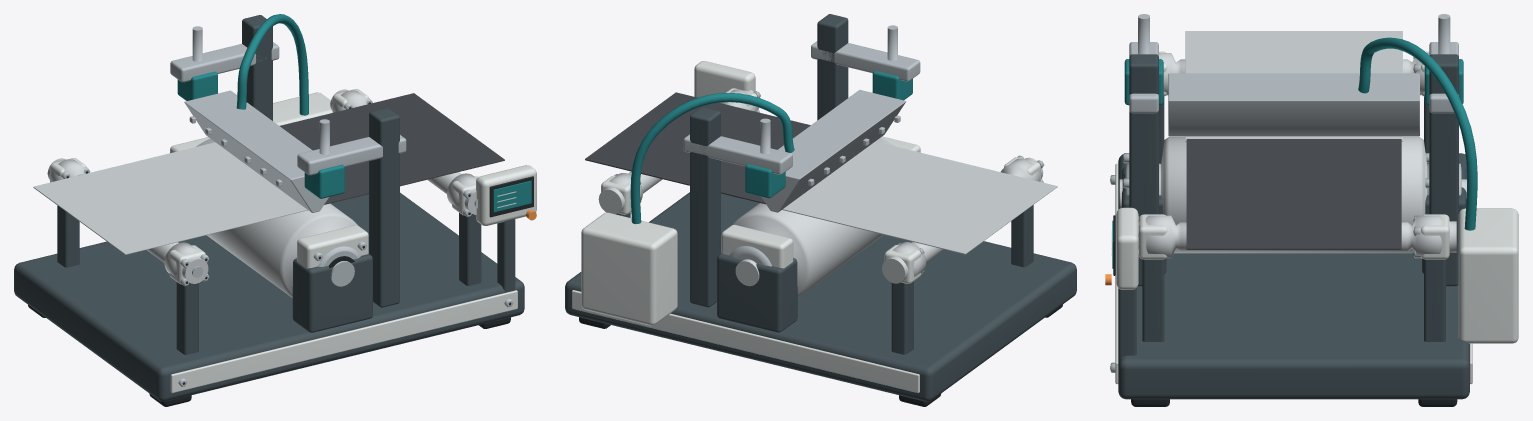
Rendered from coater.glb.
3 views of the same model, side by side, from view 1: azimuth 30°, elevation 25°; view 2: azimuth 150°, elevation 25°; view 3: azimuth 270°, elevation 25° (orthographic). The views are drawn at different scales.
Visible parts, largest first — view 1: Welded machine bed, Foil entering coating bead, Coated web leaving die, Removable fascia.001, Slot die manifold, Die positioning tower.001, Backing roll, Bearing pedestal.001, Die positioning tower, Slurry feed hose, Die cross slide.001, Die cross slide (+14 smaller); view 2: Welded machine bed, Foil entering coating bead, Metering pump cabinet, Coated web leaving die, Slot die manifold, Backing roll, Removable fascia, Die positioning tower, Bearing pedestal, Slurry feed hose, Die positioning tower.001, Die cross slide (+11 smaller); view 3: Welded machine bed, Coated web leaving die, Slot die manifold, Foil entering coating bead, Metering pump cabinet, Backing roll, Die positioning tower, Die positioning tower.001, Slurry feed hose, Infeed outfeed guide.001, Guide bracket.003, HMI enclosure (+12 smaller).
Boxes of the visible parts, x1=… form: Welded machine bed: x1=14, y1=192, x2=524, y2=401; Foil entering coating bead: x1=33, y1=142, x2=307, y2=254; Coated web leaving die: x1=280, y1=93, x2=504, y2=204; Removable fascia.001: x1=170, y1=290, x2=517, y2=393; Slot die manifold: x1=184, y1=90, x2=328, y2=212; Die positioning tower.001: x1=369, y1=108, x2=399, y2=307; Backing roll: x1=196, y1=138, x2=357, y2=297; Bearing pedestal.001: x1=292, y1=254, x2=372, y2=332; Die positioning tower: x1=242, y1=15, x2=272, y2=120; Slurry feed hose: x1=236, y1=14, x2=308, y2=115; Die cross slide.001: x1=297, y1=135, x2=406, y2=175; Die cross slide: x1=170, y1=42, x2=279, y2=82; Welded machine bed: x1=565, y1=192, x2=1076, y2=401; Foil entering coating bead: x1=782, y1=141, x2=1057, y2=254; Metering pump cabinet: x1=581, y1=212, x2=677, y2=325; Coated web leaving die: x1=585, y1=92, x2=810, y2=204; Slot die manifold: x1=761, y1=90, x2=906, y2=212; Backing roll: x1=732, y1=138, x2=894, y2=297; Removable fascia: x1=572, y1=290, x2=919, y2=392; Die positioning tower: x1=690, y1=107, x2=720, y2=307; Bearing pedestal: x1=717, y1=253, x2=797, y2=332; Slurry feed hose: x1=630, y1=93, x2=794, y2=224; Die positioning tower.001: x1=817, y1=14, x2=848, y2=120; Die cross slide: x1=683, y1=134, x2=792, y2=174; Welded machine bed: x1=1118, y1=153, x2=1469, y2=399; Coated web leaving die: x1=1186, y1=139, x2=1401, y2=249; Slot die manifold: x1=1168, y1=73, x2=1419, y2=136; Foil entering coating bead: x1=1185, y1=31, x2=1402, y2=141; Metering pump cabinet: x1=1458, y1=208, x2=1518, y2=343; Backing roll: x1=1120, y1=136, x2=1466, y2=253; Die positioning tower: x1=1429, y1=54, x2=1458, y2=286; Die positioning tower.001: x1=1129, y1=54, x2=1158, y2=286; Slurry feed hose: x1=1358, y1=37, x2=1477, y2=230; Infeed outfeed guide.001: x1=1138, y1=215, x2=1456, y2=258; Guide bracket.003: x1=1142, y1=259, x2=1164, y2=341; HMI enclosure: x1=1116, y1=207, x2=1138, y2=289.
Bounding box in the file's own units: 5.66 × 3.47 × 4.46.
